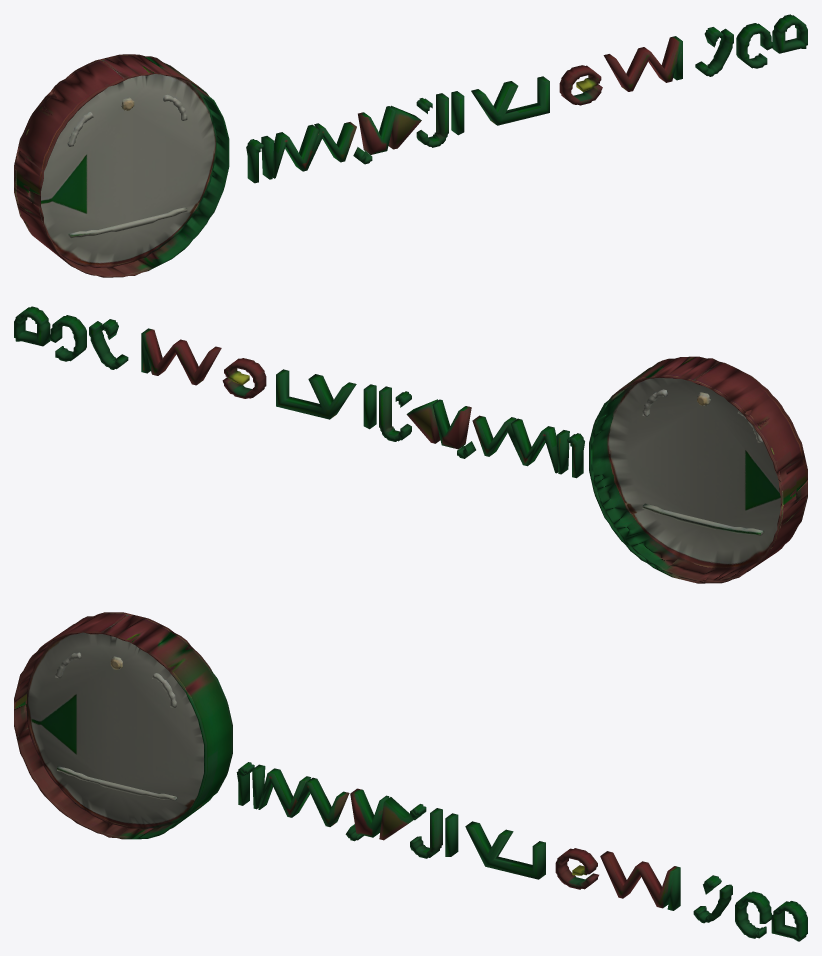
The model's file is selected.glb.
3 views of the same model, one above another, from view 1: azimuth 30°, elevation 25°; view 2: azimuth 150°, elevation 25°; view 3: azimuth 330°, elevation 25° (orthographic).
Visible parts, largest first — view 1: tripo_node_f8720b4c-dffc-4fa1-862a-02a5b77c833e; view 2: tripo_node_f8720b4c-dffc-4fa1-862a-02a5b77c833e; view 3: tripo_node_f8720b4c-dffc-4fa1-862a-02a5b77c833e.
Part boxes in pixels (bbox=[...]): tripo_node_f8720b4c-dffc-4fa1-862a-02a5b77c833e: bbox=[14, 14, 807, 277]; tripo_node_f8720b4c-dffc-4fa1-862a-02a5b77c833e: bbox=[14, 306, 807, 583]; tripo_node_f8720b4c-dffc-4fa1-862a-02a5b77c833e: bbox=[14, 612, 807, 941].
Bounding box in the file's own units: 0.998 × 0.248 × 0.0605.
Materials: 1 (1 with a texture image).
